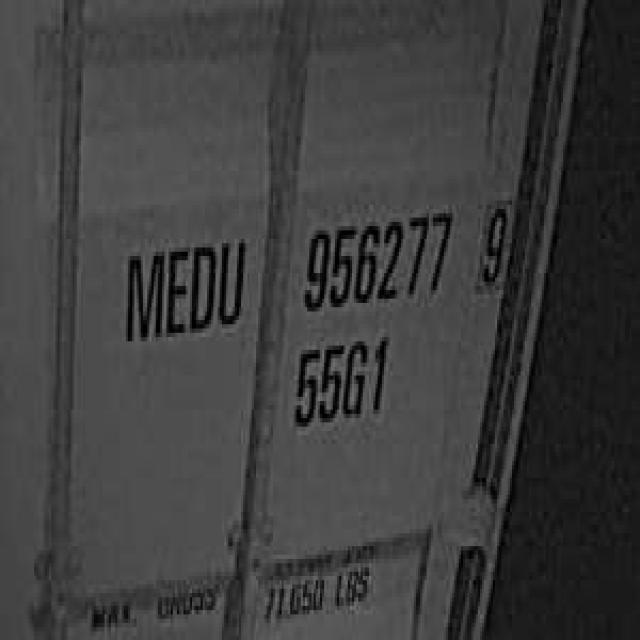dv: (474, 188, 512, 290)
owner: (118, 222, 248, 350)
serial: (296, 200, 456, 316)
size: (286, 329, 397, 435)
